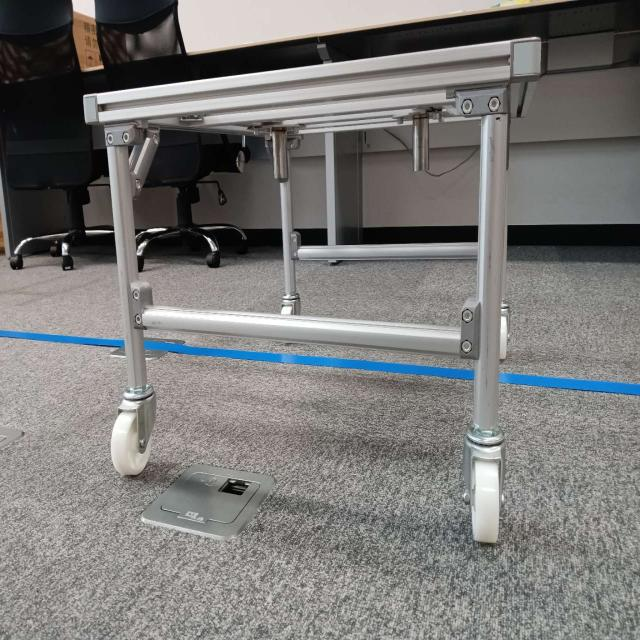side: (105, 47, 509, 360)
